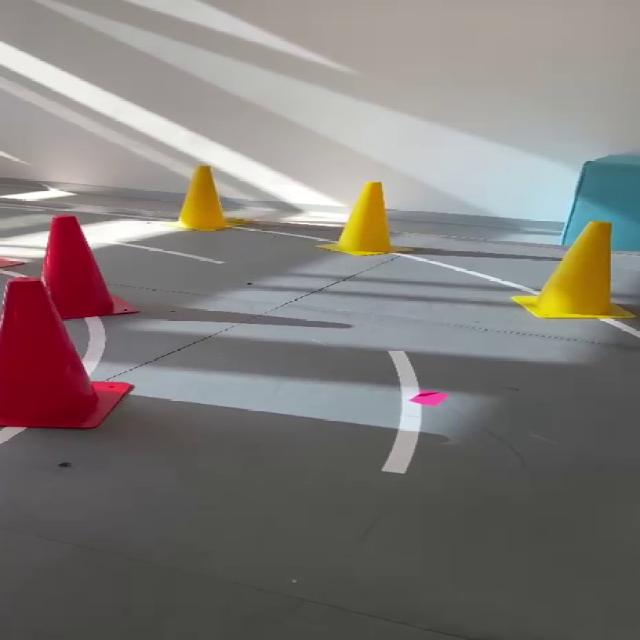Cone-red: (0, 277, 131, 428), (41, 215, 119, 318)
Cones-yellow: (510, 221, 630, 318), (320, 183, 397, 255), (178, 165, 229, 230)
